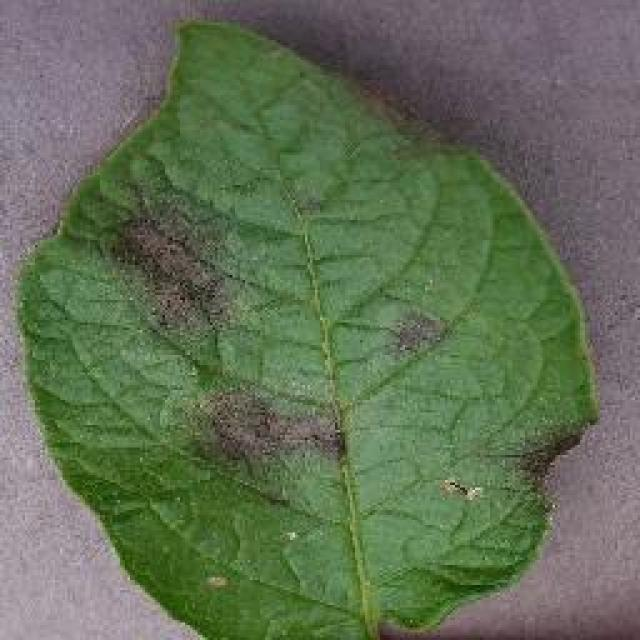late_blight: (12, 12, 602, 638)
